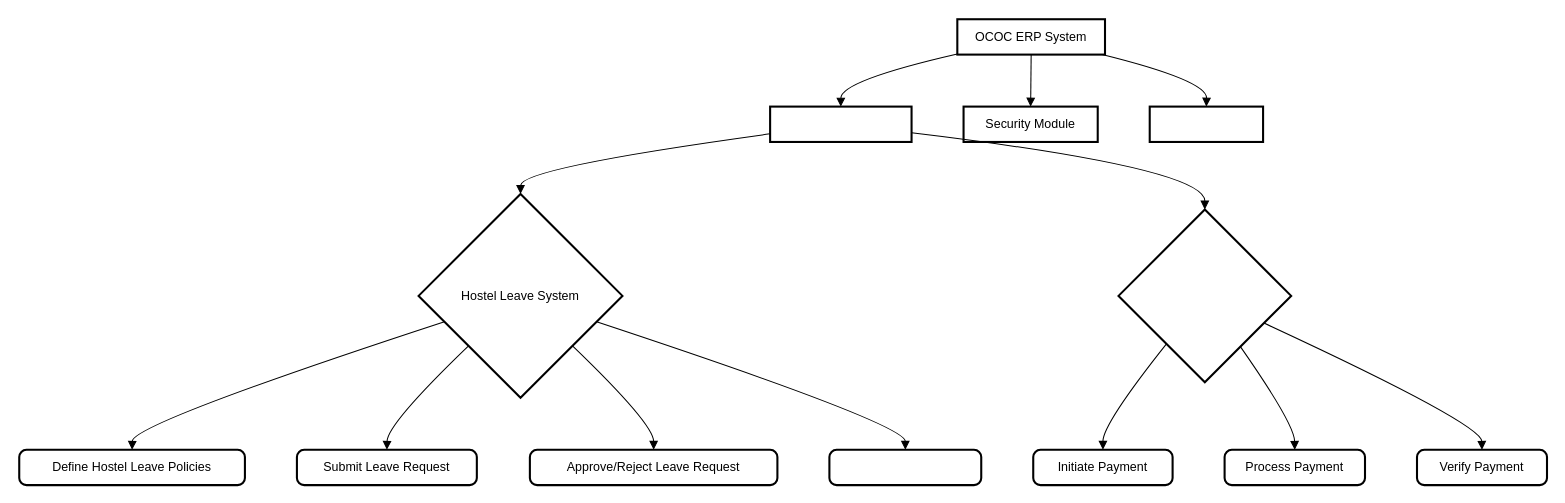
This 1565x503 diagram has some shape labels left out. Each missing label, with the box of its shape:
Accounts Module: (769, 105, 912, 142)
Payment System: (1117, 208, 1292, 383)
Store Module: (1148, 105, 1264, 142)
View Leave Status: (828, 448, 982, 486)
